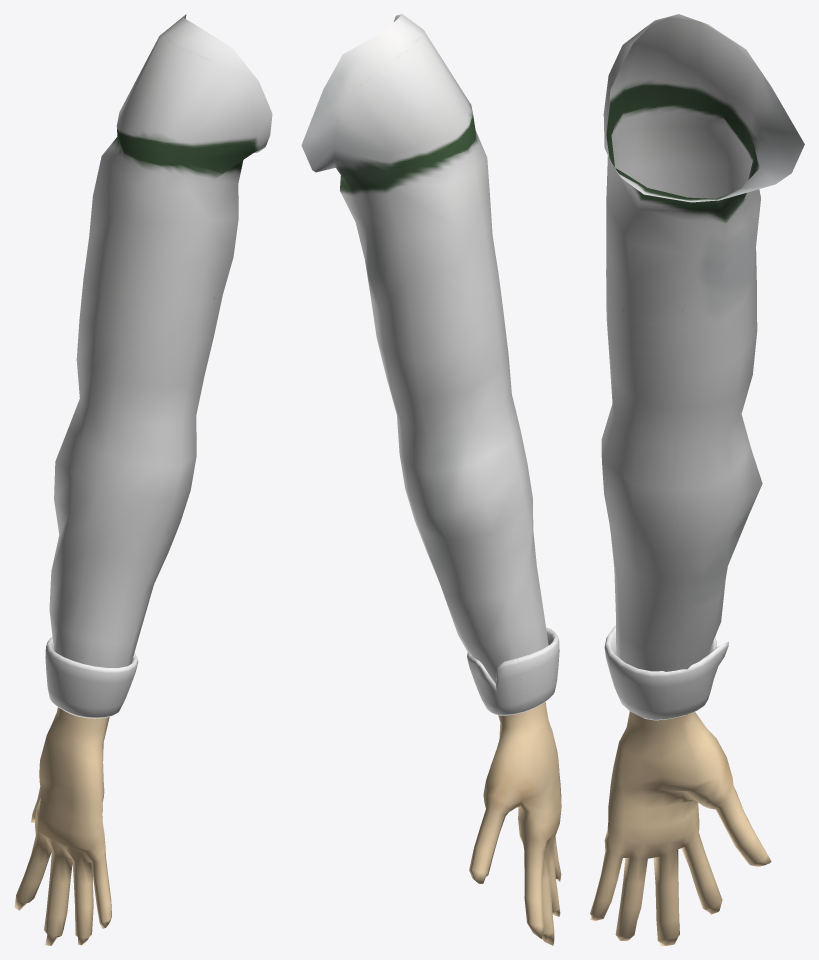
Rendered from BrazoIzq.obj.
3 views of the same model, side by side, from view 1: azimuth 30°, elevation 25°; view 2: azimuth 150°, elevation 25°; view 3: azimuth 270°, elevation 25° (orthographic). The views are drawn at different scales.
Parts seen in each view (by area): view 1: Brazo_I.001; view 2: Brazo_I.001; view 3: Brazo_I.001.
Part boxes in pixels (x1,y1,x2,y2): Brazo_I.001: (14,14,272,945); Brazo_I.001: (301,14,561,945); Brazo_I.001: (590,14,804,945).
Bounding box in the file's own units: 0.3551 × 1.42 × 0.2711.
1 material, 1 textured.
